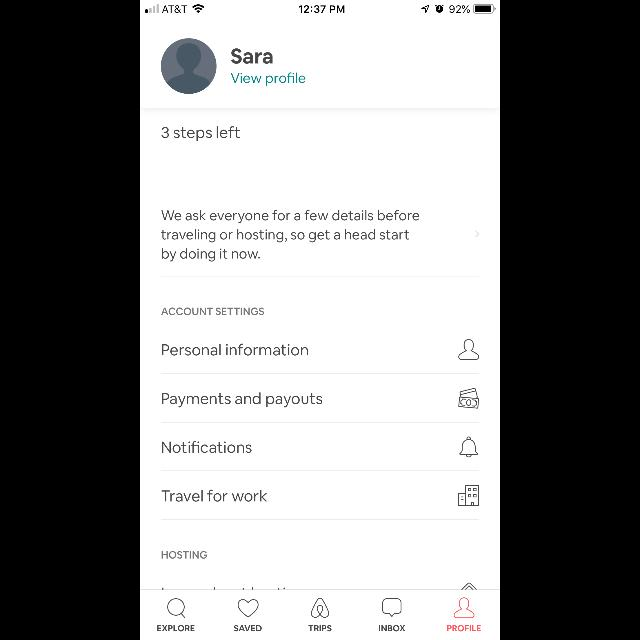icon: (162, 38, 216, 94), (458, 388, 479, 408), (458, 340, 479, 360), (454, 598, 474, 618), (382, 598, 402, 618), (459, 437, 478, 458), (238, 599, 258, 617), (168, 598, 186, 618)
image: (458, 486, 479, 506), (311, 598, 329, 618)
text: (161, 210, 419, 262), (162, 392, 322, 408), (162, 344, 308, 356), (162, 490, 268, 502), (162, 126, 240, 142), (162, 441, 252, 453), (230, 72, 306, 86), (162, 307, 264, 315), (231, 48, 273, 64), (161, 551, 207, 559), (158, 625, 195, 631), (448, 625, 480, 631), (234, 625, 262, 631), (379, 625, 405, 631), (308, 625, 332, 631)
uppertaskbar: (140, 0, 500, 14)
